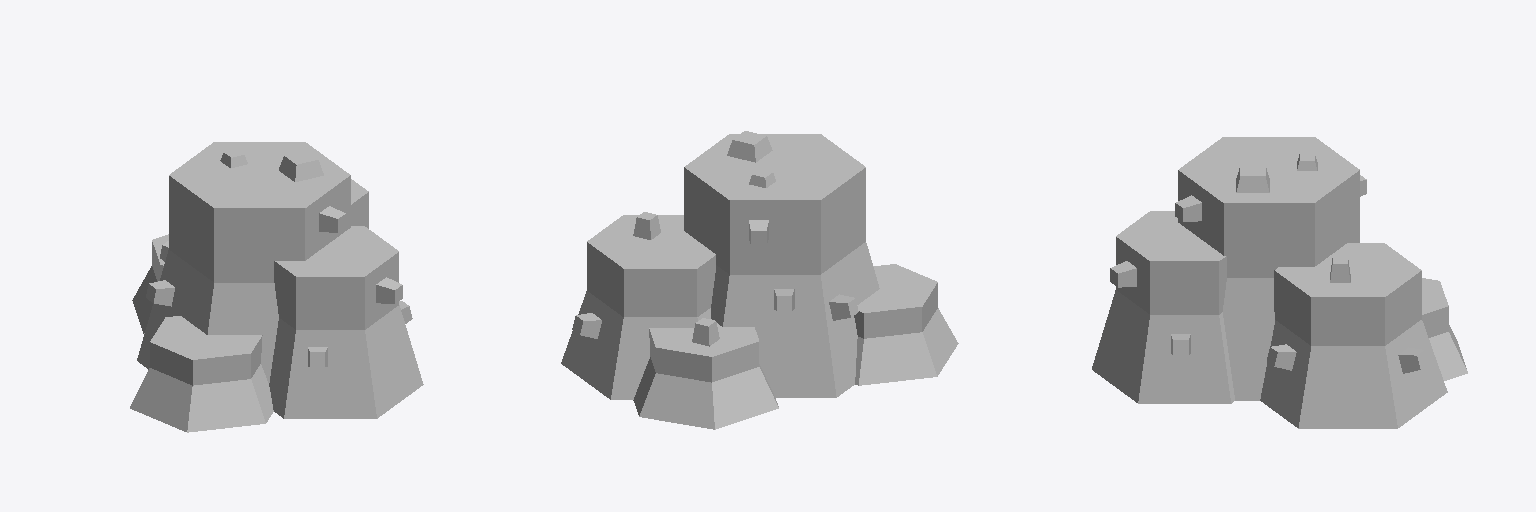
The model's file is rock_crystalsLargeA.obj.
3 views of the same model, side by side, from view 1: azimuth 30°, elevation 25°; view 2: azimuth 150°, elevation 25°; view 3: azimuth 270°, elevation 25° (orthographic).
Parts seen in each view (by area): view 1: rock_crystalsLargeA; view 2: rock_crystalsLargeA; view 3: rock_crystalsLargeA.
Boxes of the visible parts, <box> form: rock_crystalsLargeA: <box>130,142,423,432</box>; rock_crystalsLargeA: <box>561,131,958,429</box>; rock_crystalsLargeA: <box>1092,137,1467,428</box>.
Bounding box in the file's own units: 0.8339 × 0.541 × 0.9193.